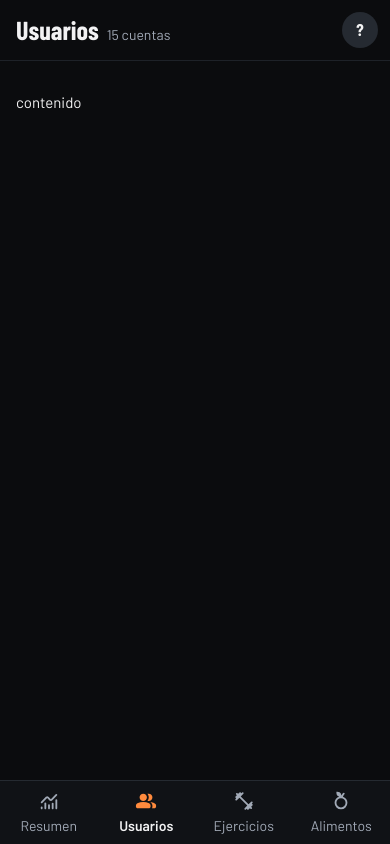
Test case: Marco › en el móvil, cuatro pestañas abajo y un menú con la cuenta, la API y cerrar sesión
expect the links read "Resumen", "Usuarios", "Ejercicios", "Alimentos", in this order: met, box [20,790,77,834]; [119,790,173,834]; [214,790,274,834]; [311,790,372,834]
Click the button named "Cuenta y estado de la API" at (360,30), box [338,8,382,52]
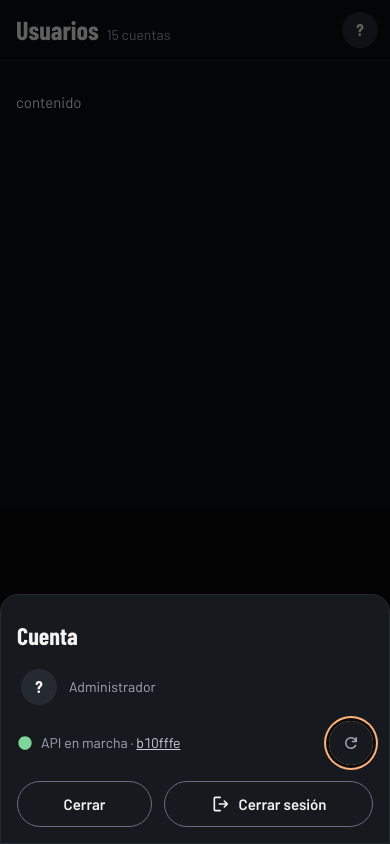
expect the button "Cerrar sesión" is shown: met, box [164,781,373,827]
expect the button named "Comprobar otra vez" is shown: met, box [329,721,373,765]
expect the text "API en marcha · b10fffe" is shown: met, box [41,734,180,751]
